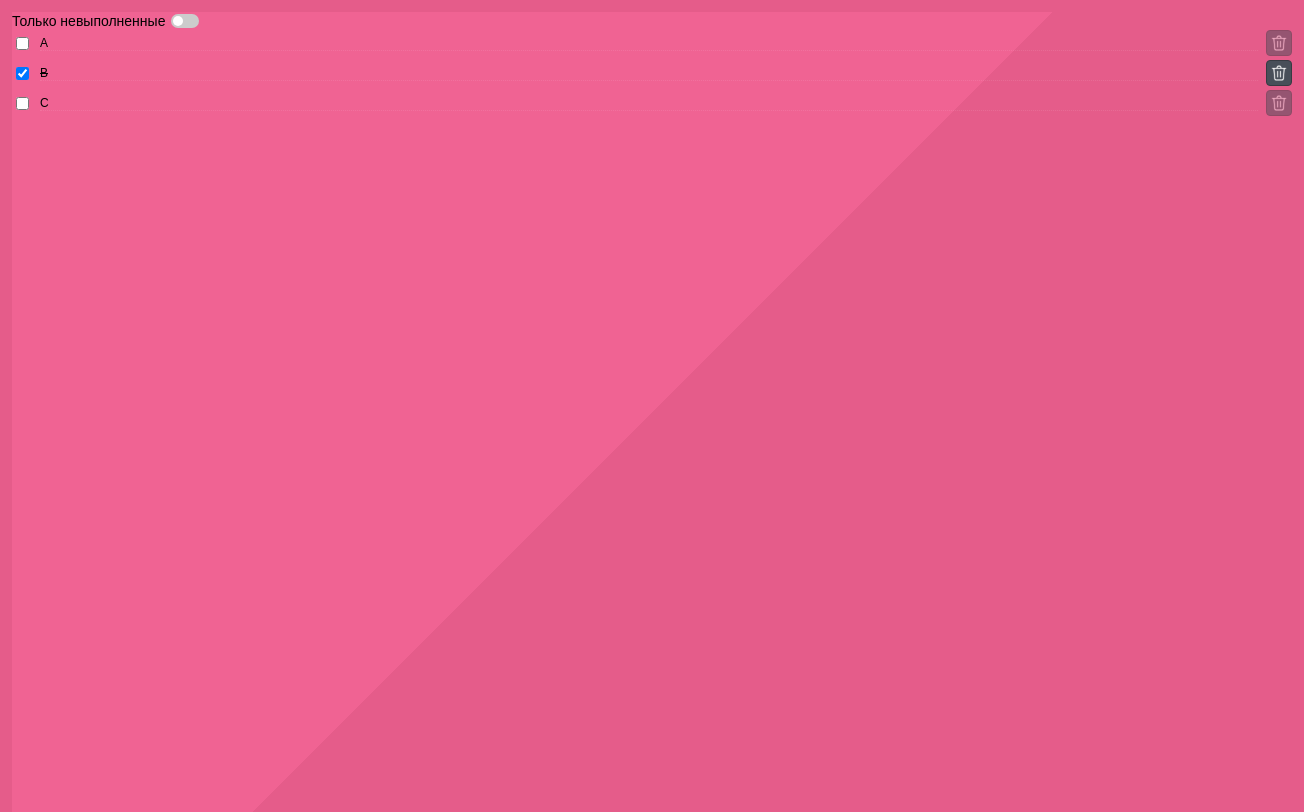
it: Список задач — фильтрация › с выключенным фильтром
The image size is (1304, 812).
Click the checkbox labelled "Только невыполненные": point(106, 21) x1=12 y1=13 x2=199 y2=29
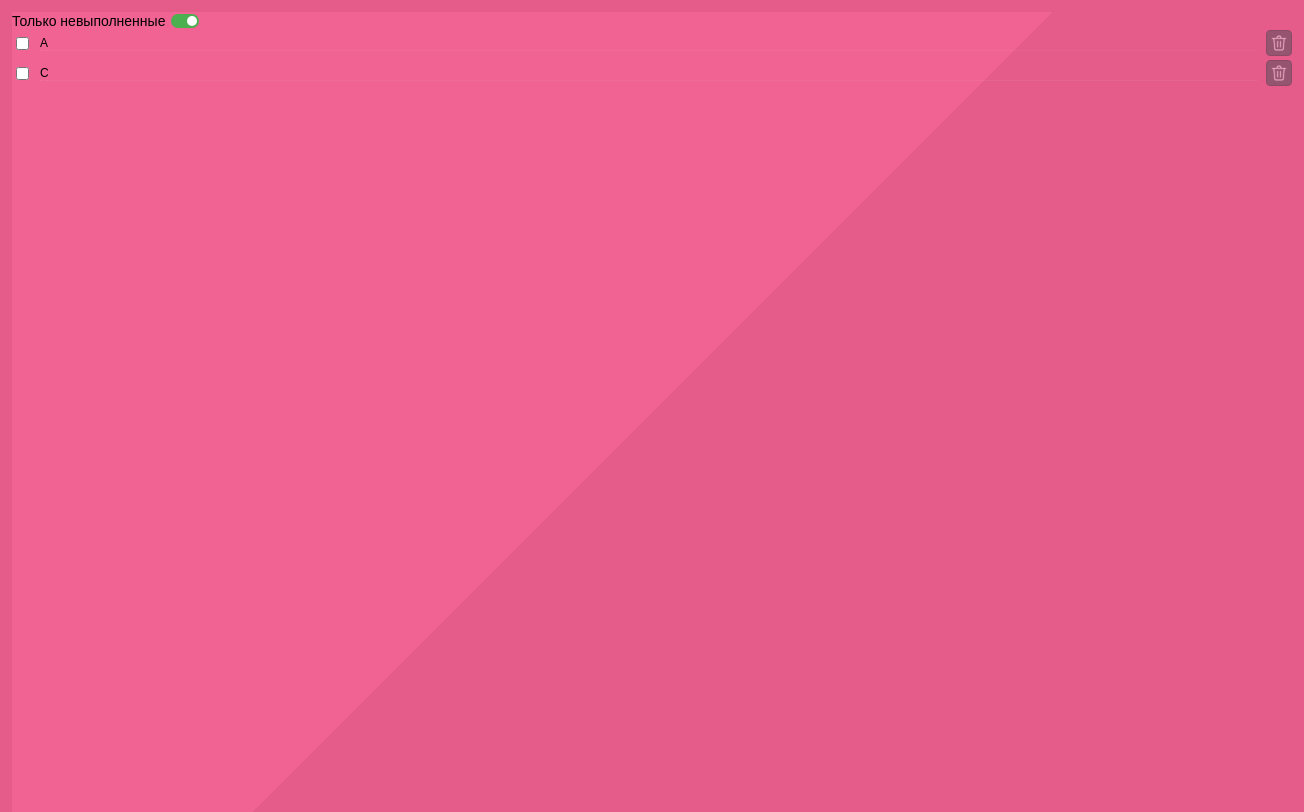
Click the checkbox labelled "Только невыполненные": point(106, 21) x1=12 y1=13 x2=199 y2=29
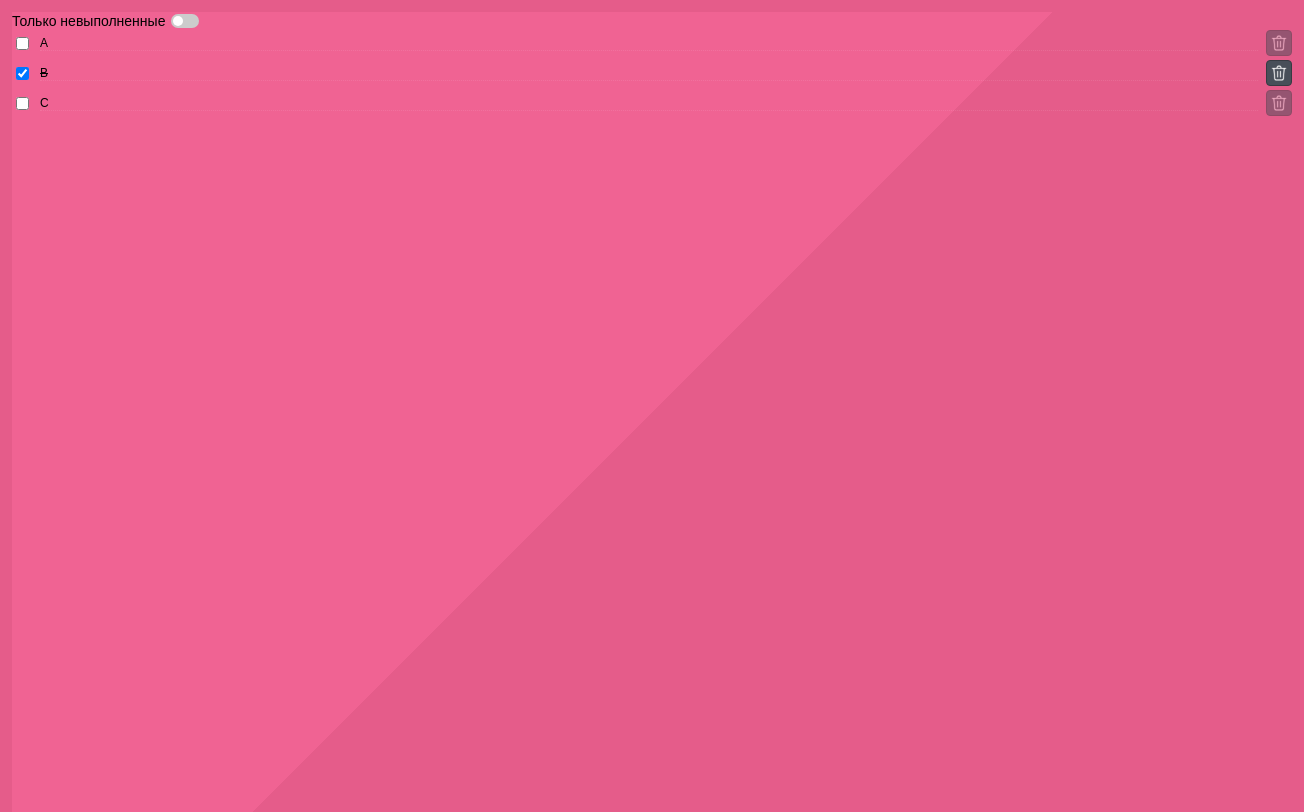
Expected: the text "A" is shown, x1=40 y1=36 x2=1258 y2=50
Expected: the number of list items is 3, x1=12 y1=30 x2=1292 y2=56; x1=12 y1=60 x2=1292 y2=86; x1=12 y1=90 x2=1292 y2=116
Expected: the text "B" is shown, x1=40 y1=66 x2=48 y2=80
